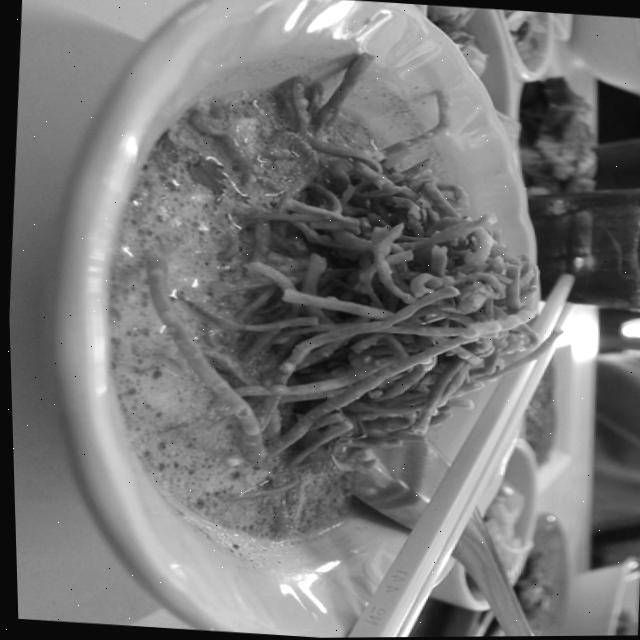面条主食: (111, 84, 550, 540)
